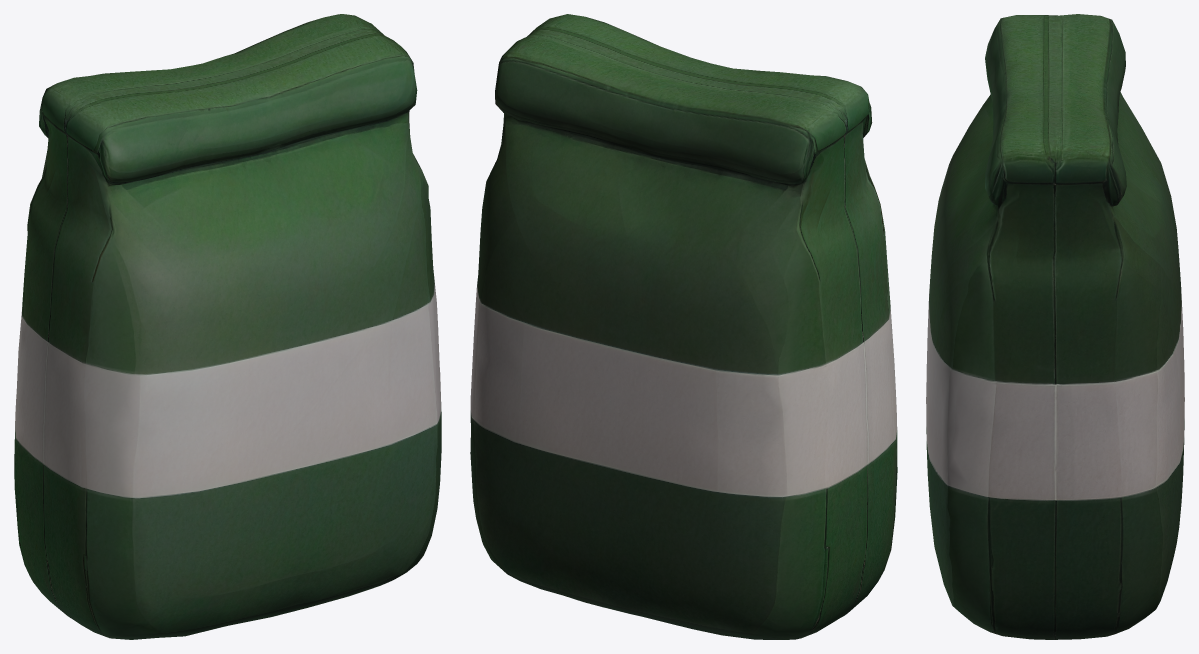
The model's file is P_ImportedFood_h55.fbx.
3 renders of one model, left to right at view 1: azimuth 30°, elevation 25°; view 2: azimuth 150°, elevation 25°; view 3: azimuth 270°, elevation 25°, orthographic. The views are drawn at different scales.
Parts seen in each view (by area): view 1: texture_mapping; view 2: texture_mapping; view 3: texture_mapping.
Part boxes in pixels (x1,y1,x2,y2): texture_mapping: (14, 14, 441, 639); texture_mapping: (470, 14, 897, 639); texture_mapping: (926, 14, 1184, 639).
Size of the model in its own units: 73.42 by 99.67 by 47.22.
1 material, 1 textured.
